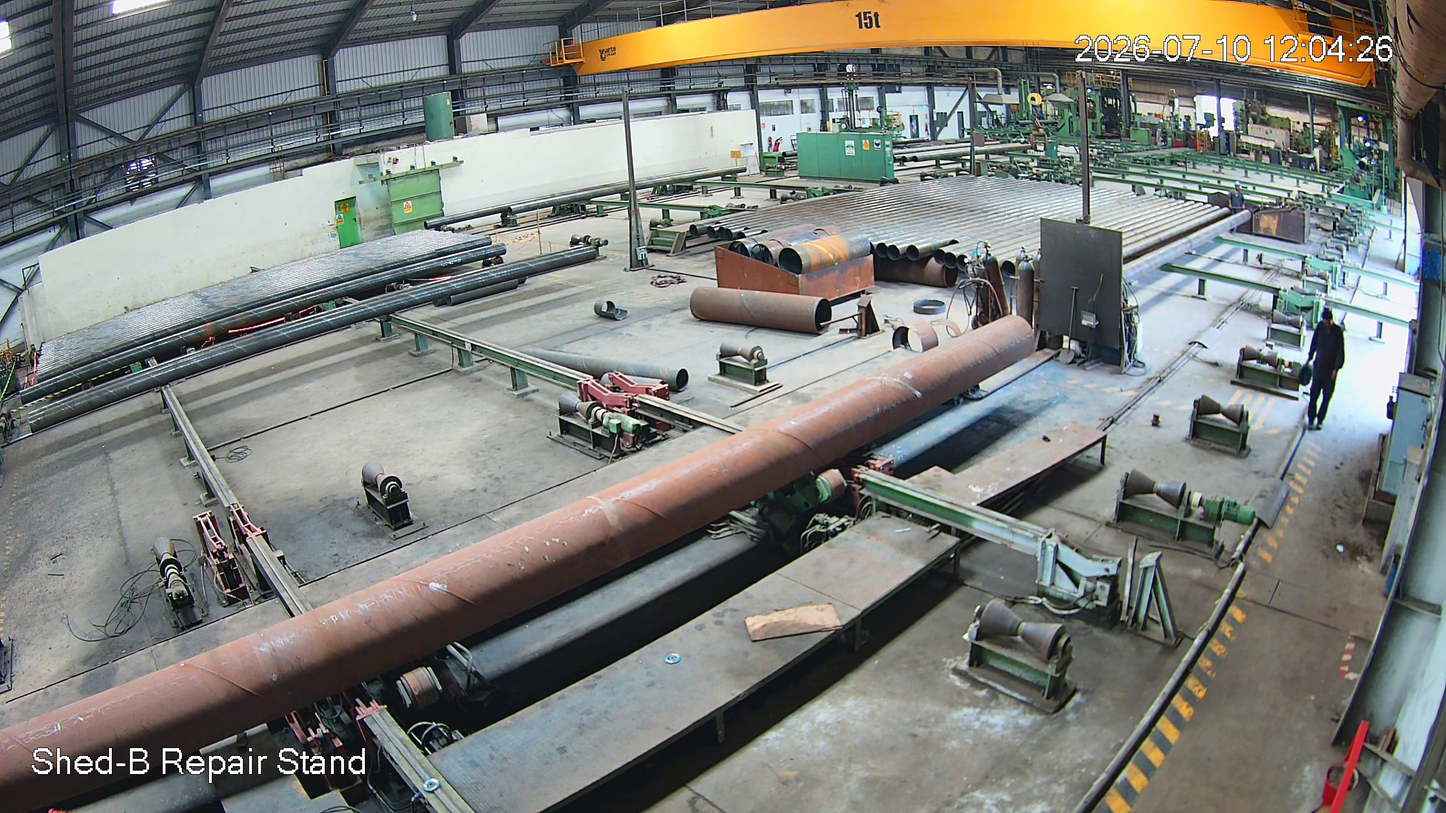Person: (1306, 308, 1350, 428)
